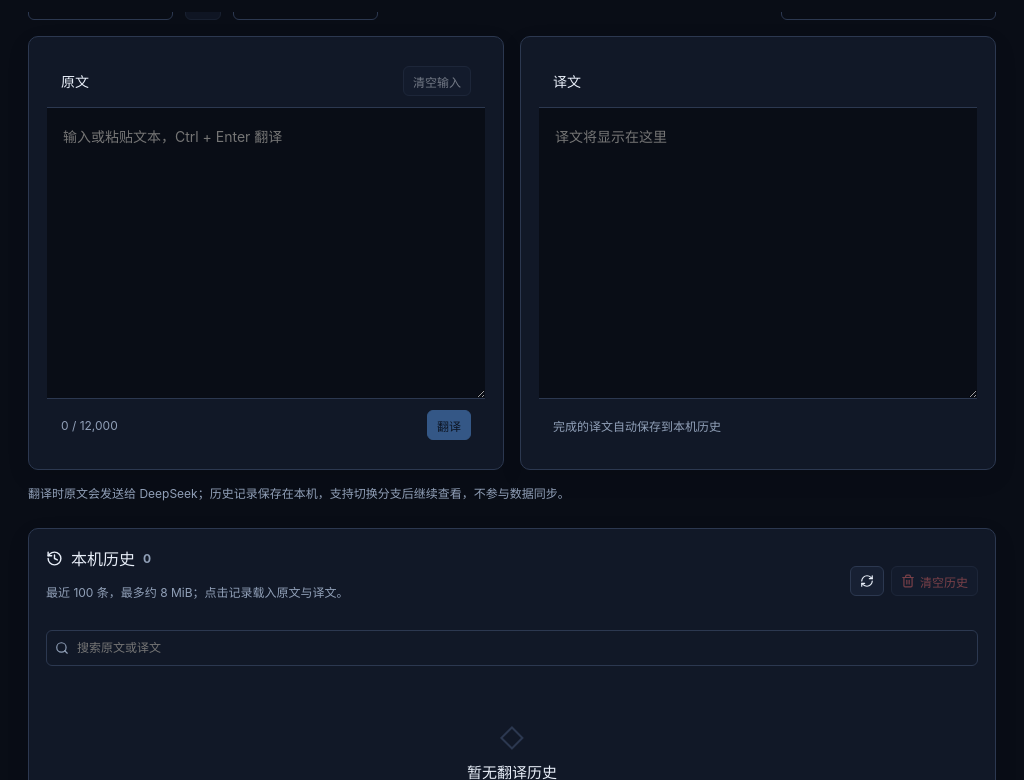
translation page › streams translation output, refreshes history, and aborts an active request on unmount
The width and height of the screenshot is (1024, 780).
(page scrolled)
Check: the heading "暂无翻译历史" is shown, box 467,761 -> 557,779
Step 1. Type "你好世界" into the text box named "待翻译文本" → (266, 253), box 47,108 -> 485,398
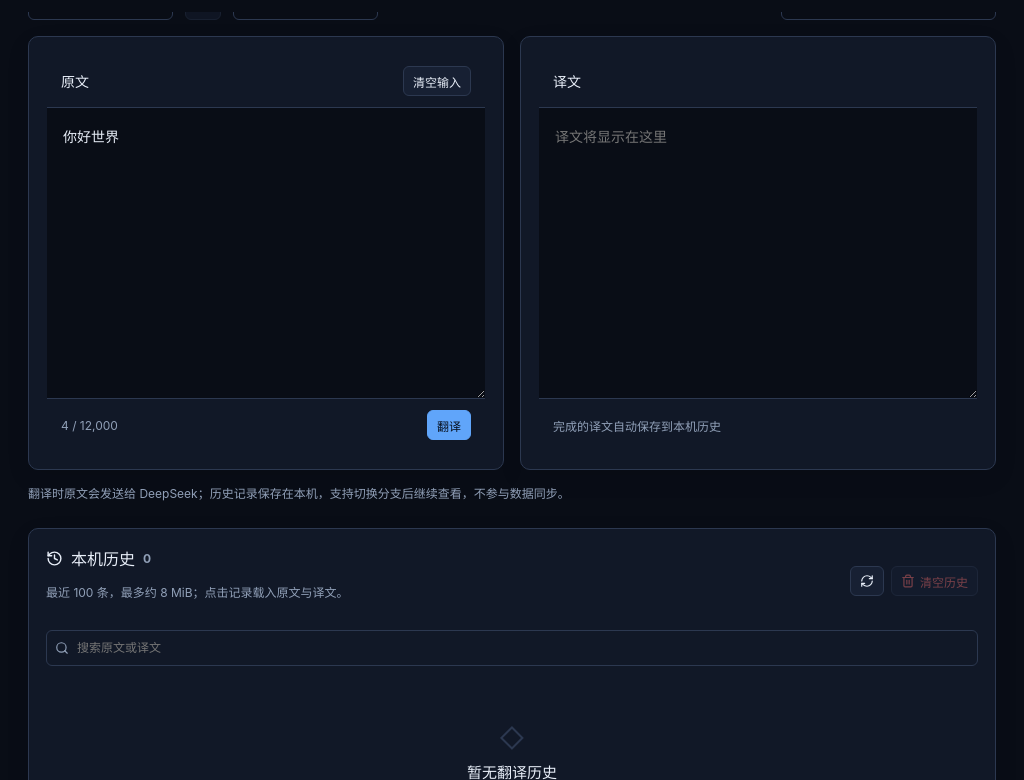
Step 2. Click the button "翻译" → (449, 425), box 427,410 -> 471,440
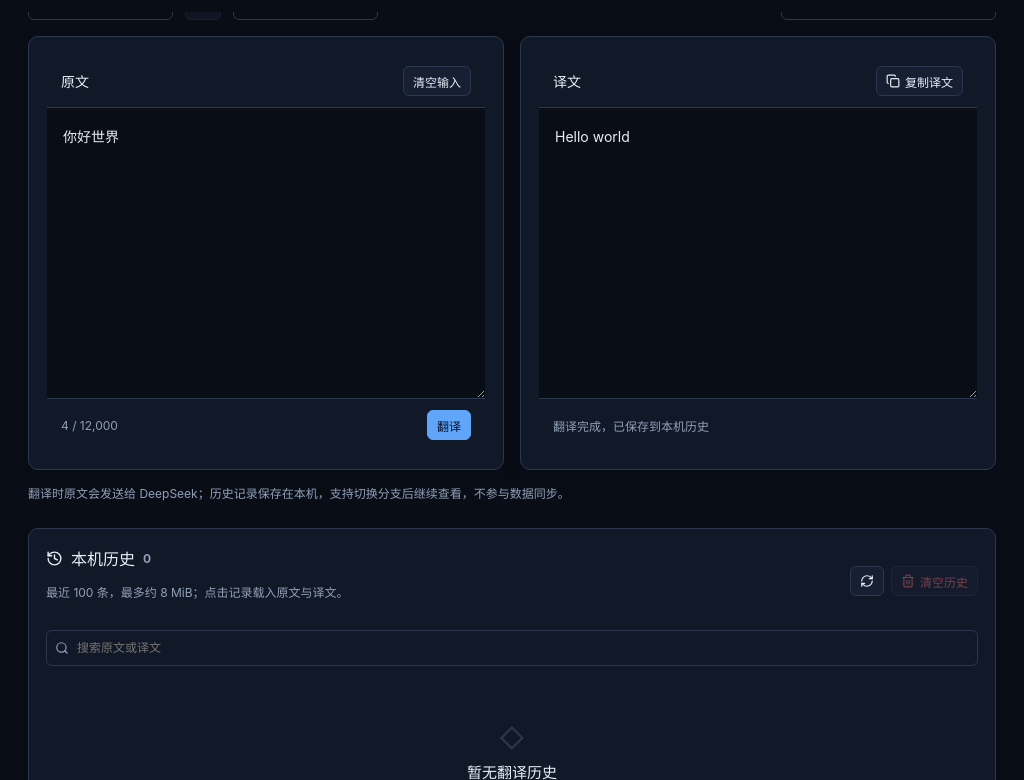
Check: the text "翻译完成，已保存到本机历史" is shown, box 553,416 -> 709,434
Check: the text box named "译文" holds "Hello world", box 539,108 -> 977,398
Step 3. Click the button "翻译" → (449, 425), box 427,410 -> 471,440
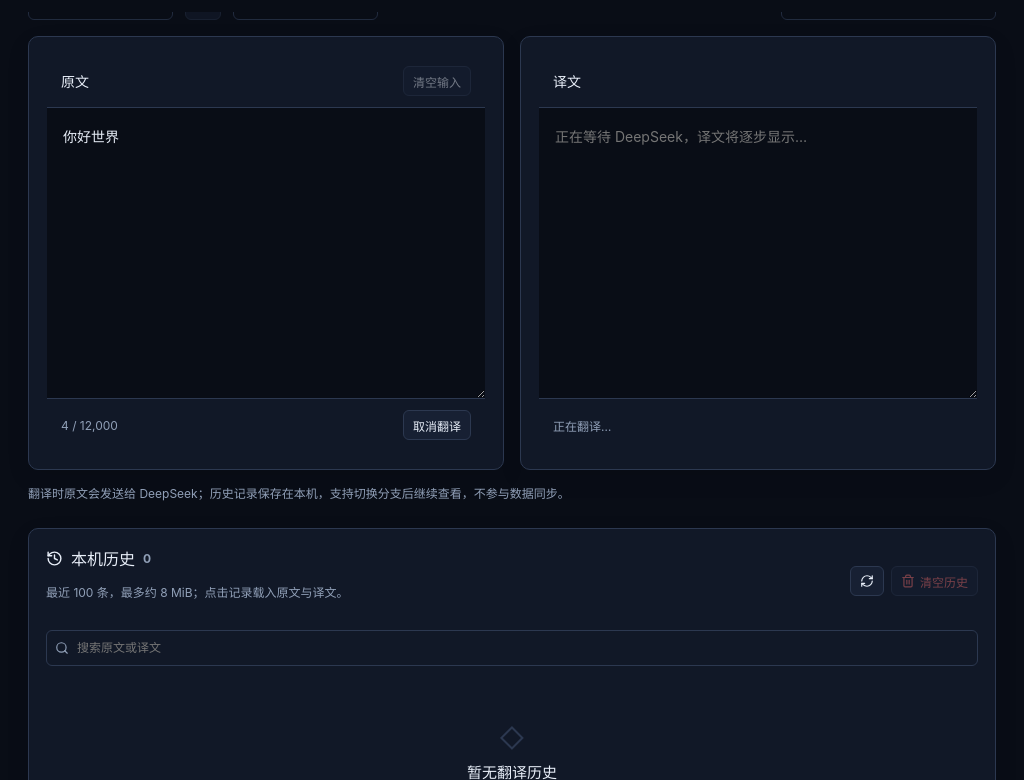
Check: the button "取消翻译" is shown, box 403,410 -> 471,440
